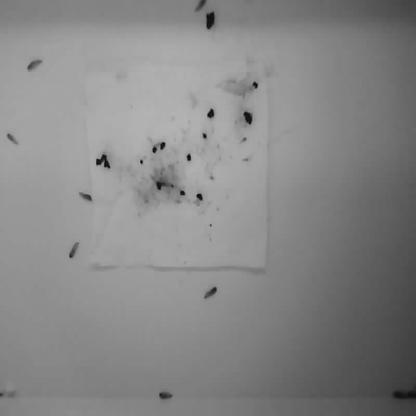PtecticusTenebrifer: (69, 239, 79, 263), (26, 58, 43, 72), (194, 0, 208, 13), (6, 132, 19, 146), (204, 287, 218, 300), (158, 389, 175, 399), (78, 189, 92, 201), (390, 391, 407, 400)
